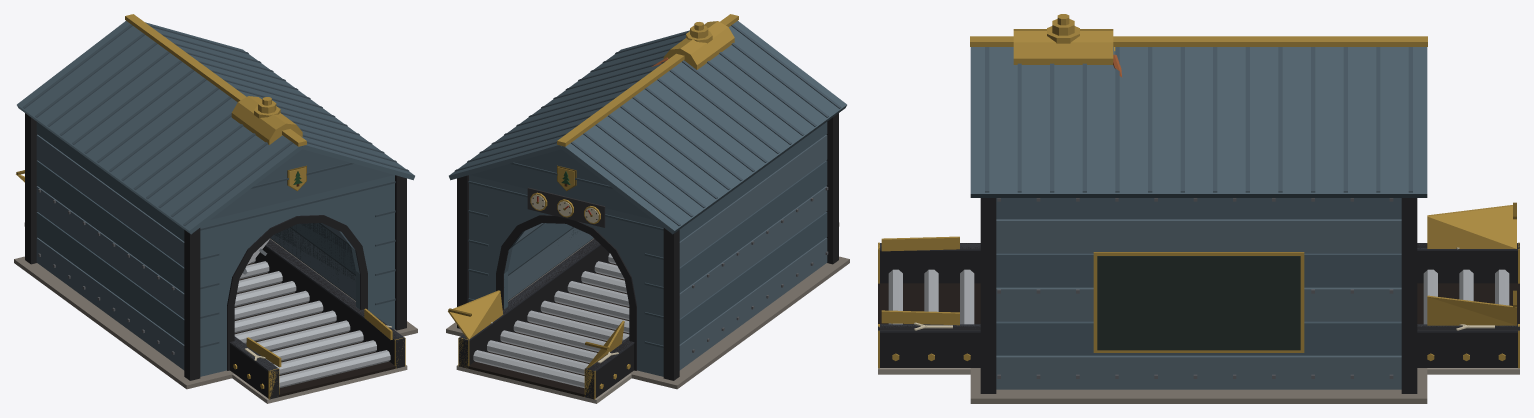
Rendered from Millmaster200.glb.
3 views of the same model, side by side, from view 1: azimuth 30°, elevation 25°; view 2: azimuth 150°, elevation 25°; view 3: azimuth 270°, elevation 25° (orthographic). The views are drawn at different scales.
Visible parts, largest first — view 1: Body, Rollers, Belt; view 2: Body, Rollers, Belt; view 3: Body, Rollers, Belt.
Boxes of the visible parts, x1,y1,x2,y2 form: Body: (14, 14, 417, 403); Rollers: (233, 258, 390, 388); Belt: (234, 263, 395, 396); Body: (446, 14, 849, 403); Rollers: (473, 253, 630, 388); Belt: (468, 263, 629, 396); Body: (878, 14, 1519, 403); Rollers: (888, 269, 1509, 360); Belt: (878, 283, 1519, 324).
Bounding box in the file's own units: 9.9 × 9.68 × 18.
